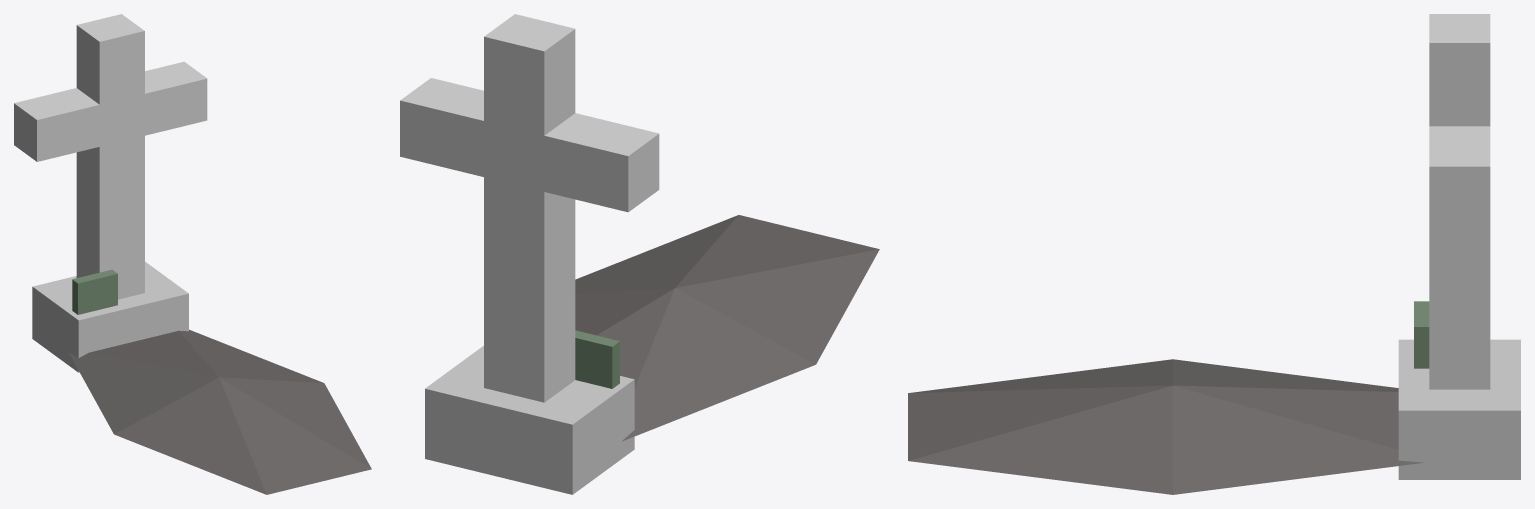
The model's file is prop_grave1.glb.
3 renders of one model, left to right at view 1: azimuth 30°, elevation 25°; view 2: azimuth 150°, elevation 25°; view 3: azimuth 270°, elevation 25°, orthographic. The views are drawn at different scales.
Visible parts, largest first — view 1: tint, body; view 2: tint, body; view 3: body, tint.
Part boxes in pixels (box(x1,y1,x2,y2)): tint: box(14, 14, 207, 372); body: box(69, 269, 371, 494); tint: box(400, 14, 659, 494); body: box(575, 215, 879, 441); body: box(908, 301, 1429, 494); tint: box(1398, 14, 1520, 479).
Size of the model in its own units: 0.84 by 1.27 by 1.6.
